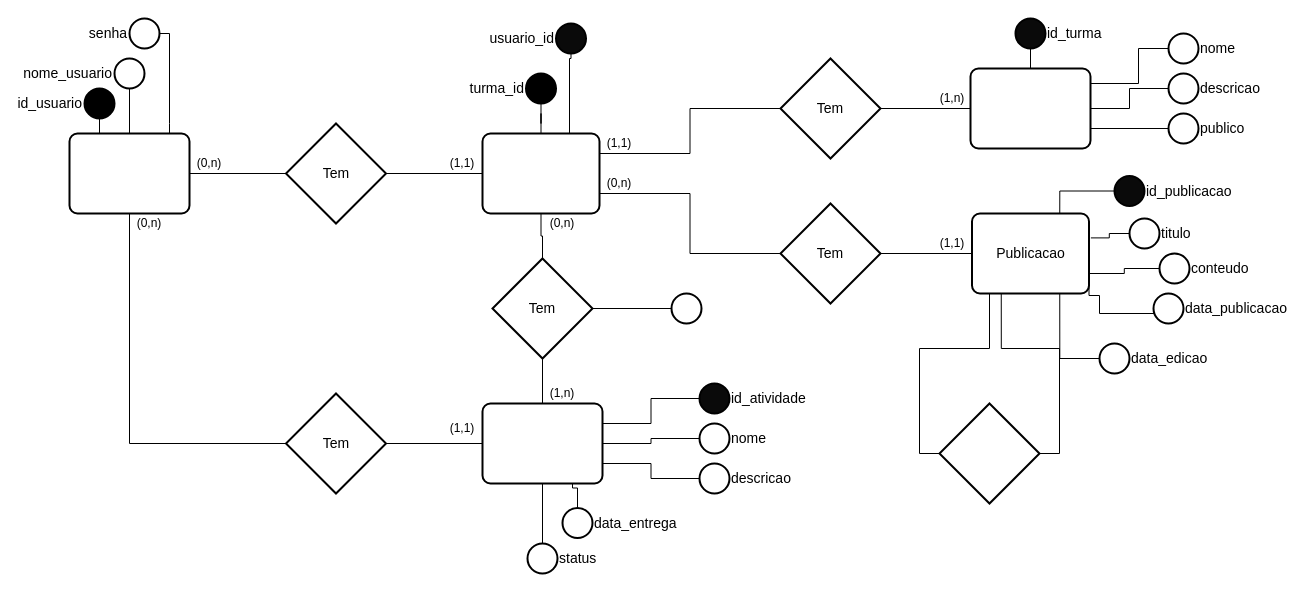
Image size: 1304x591. Some labels were removed from this diagram. The centre of each missing label's shape, as x and y in pixels:
Atividade: point 542,443
nota: point 686,308
Participacao: point 540,173
Responde: point 989,453
Turma: point 1030,108
Usuário: point 129,173
